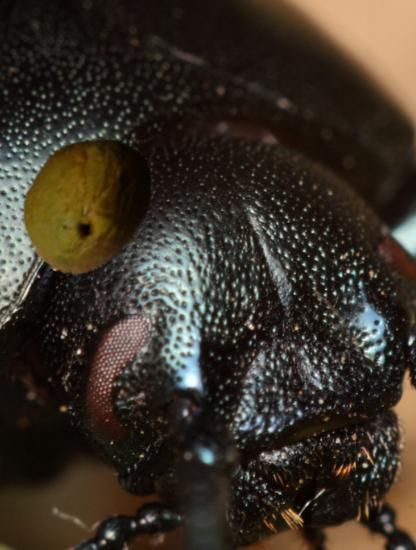Papaya: (14, 130, 163, 279)
